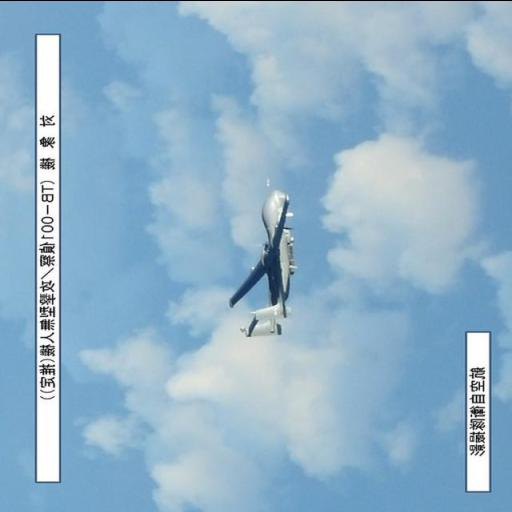uav: (226, 156, 312, 338)
